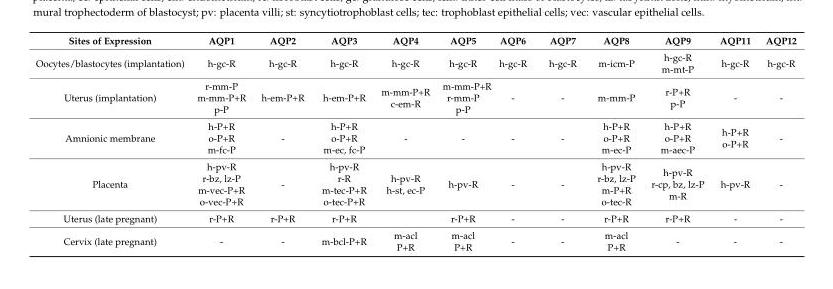table: (34, 34, 795, 252)
table column: (34, 34, 189, 252), (642, 34, 711, 252), (189, 34, 252, 252), (373, 34, 435, 252), (312, 34, 373, 252), (252, 34, 312, 252), (435, 34, 494, 252), (586, 34, 642, 252), (537, 34, 586, 252), (711, 34, 757, 252), (494, 34, 537, 252), (757, 34, 795, 252)
table column header: (34, 34, 795, 48)
table row: (34, 157, 795, 209), (34, 77, 795, 117), (34, 117, 795, 157), (34, 48, 795, 77), (34, 226, 795, 252), (34, 209, 795, 226), (34, 34, 795, 48)
